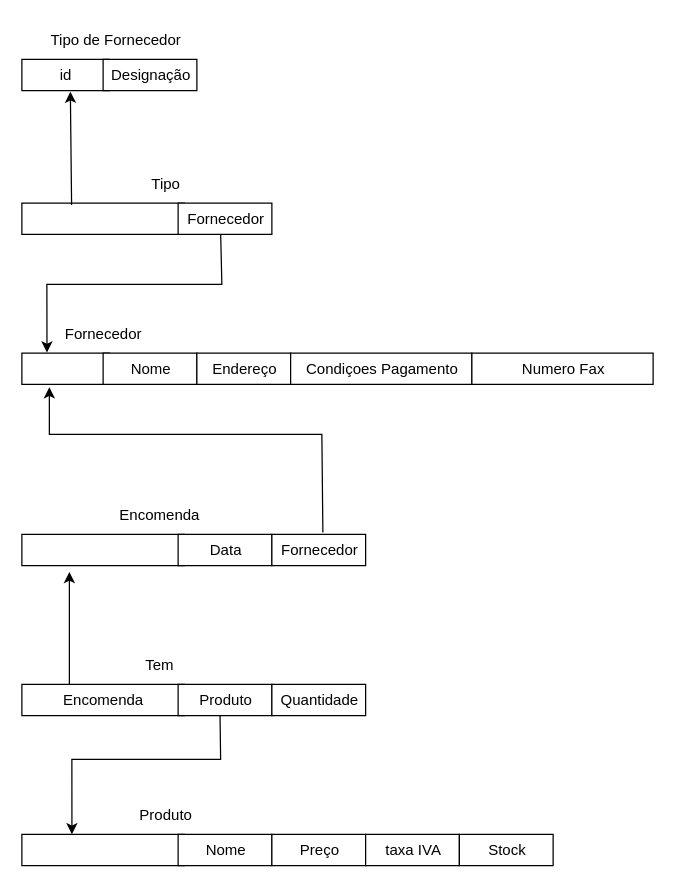
Image size: 675x888. Some labels were removed from this diagram. The shapes that lost their labels are listed below. From the top down, each one's box as (x1, y1, x2, y2) in pixels, then its label:
(21, 202, 184, 234): Tipo de Fornecerdor
(21, 352, 109, 384): NIF
(21, 533, 184, 566): Número
(21, 833, 184, 866): Codigo
